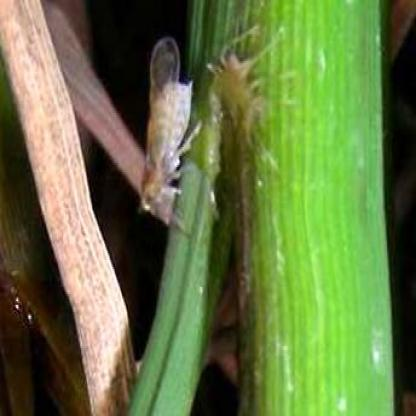brown-planthopper: (140, 31, 192, 220)
